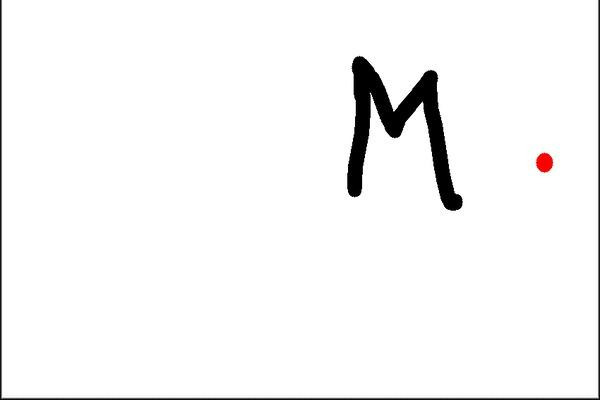M: (341, 48, 464, 212)
